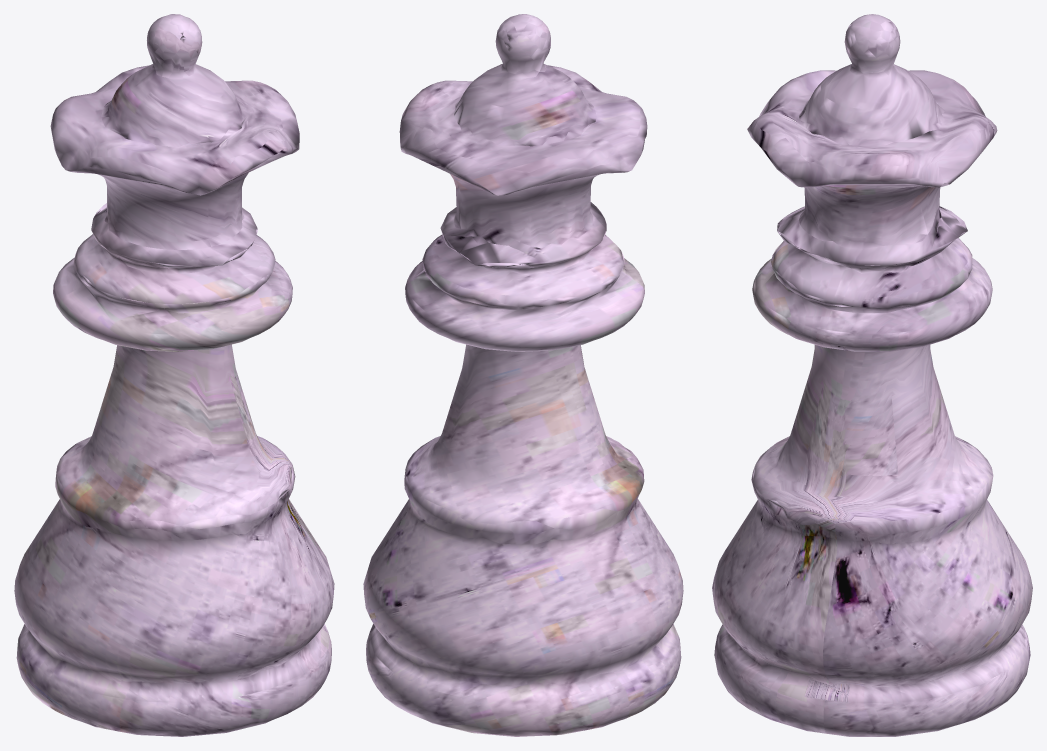
Rendered from white_queen.glb.
The picture shows the model from 3 angles, left to right: view 1: azimuth 30°, elevation 25°; view 2: azimuth 150°, elevation 25°; view 3: azimuth 270°, elevation 25°; orthographic projection.
Visible parts, largest first — view 1: Circle.030; view 2: Circle.030; view 3: Circle.030.
Part boxes in pixels (x1,y1,x2,y2): Circle.030: [14, 14, 334, 736]; Circle.030: [363, 14, 683, 736]; Circle.030: [712, 14, 1032, 736].
Size of the model in its own units: 1.41 by 3.22 by 1.41.
Materials: 1 (1 with a texture image).
